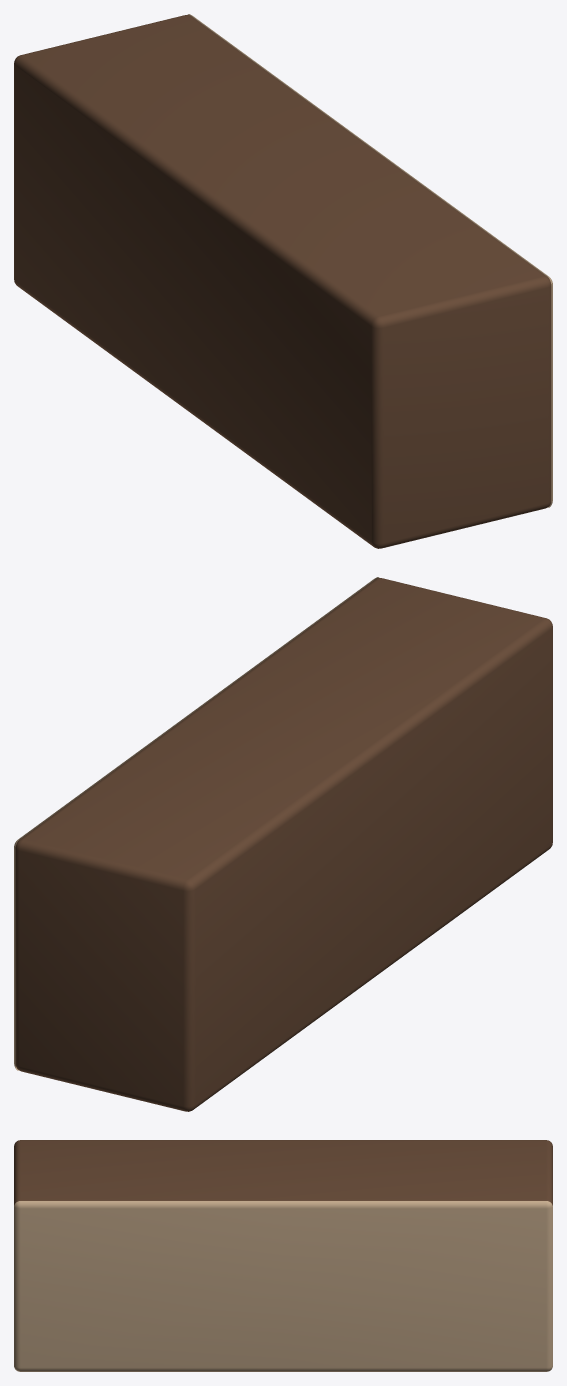
The model's file is nameplate.fbx.
3 views of the same model, one above another, from view 1: azimuth 30°, elevation 25°; view 2: azimuth 150°, elevation 25°; view 3: azimuth 270°, elevation 25° (orthographic). The views are drawn at different scales.
Visible parts, largest first — view 1: nameplate; view 2: nameplate; view 3: nameplate.
Part boxes in pixels (x1,y1,x2,y2): nameplate: (14, 14, 552, 548); nameplate: (14, 577, 552, 1111); nameplate: (14, 1140, 552, 1371).
Bounding box in the file's own units: 0.0342 × 0.12 × 0.042.
